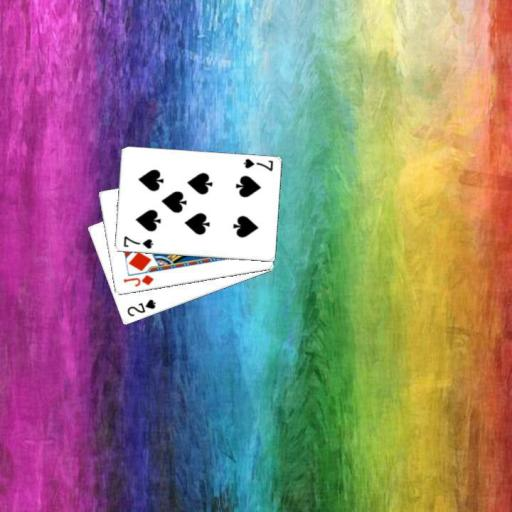2S: (124, 296, 157, 318)
7S: (120, 234, 154, 251), (241, 156, 275, 173)
JD: (120, 272, 155, 288)
